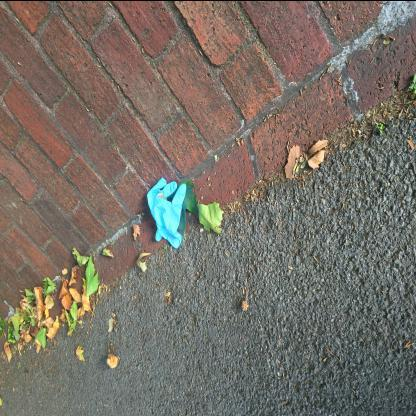plastik: (147, 178, 189, 249)
